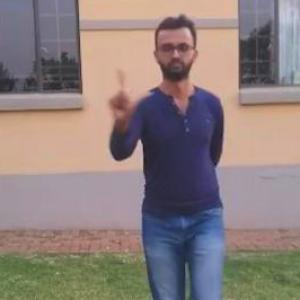land_hand: (103, 61, 151, 124)
